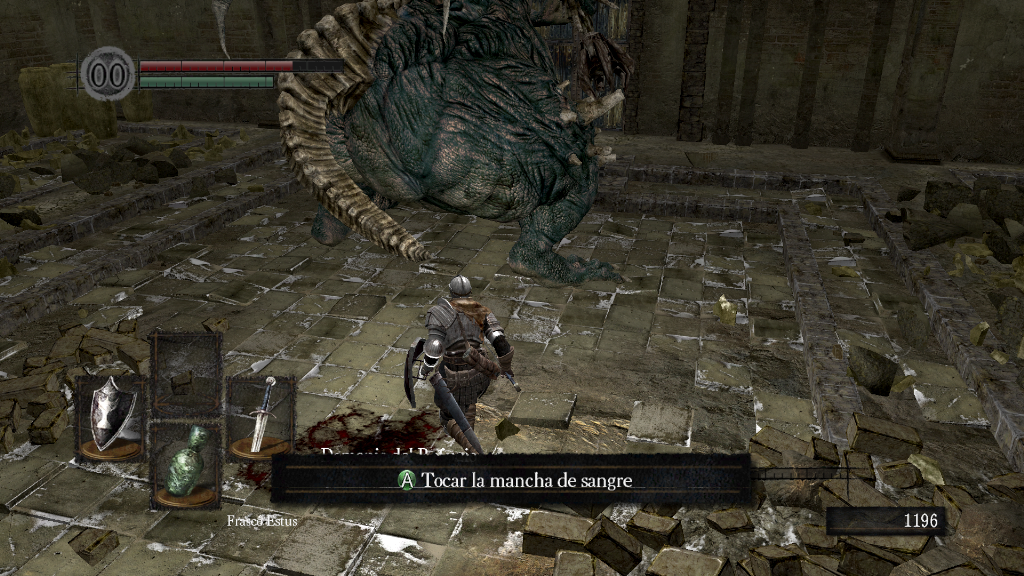asylumDemon: (212, 1, 635, 289)
dialogBox: (271, 456, 754, 505)
health: (138, 58, 343, 71)
humanity: (80, 45, 136, 102)
player: (401, 274, 521, 456)
souls: (825, 506, 945, 536)
stamina: (138, 74, 274, 88)
